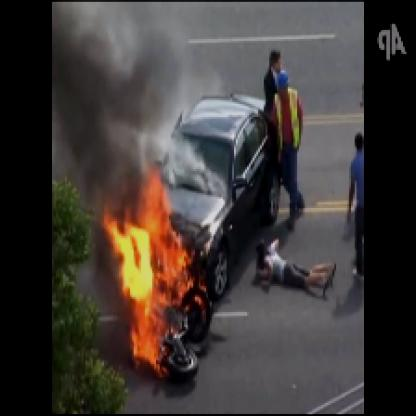Fire: (111, 169, 212, 388)
Smoke: (56, 2, 178, 169)
